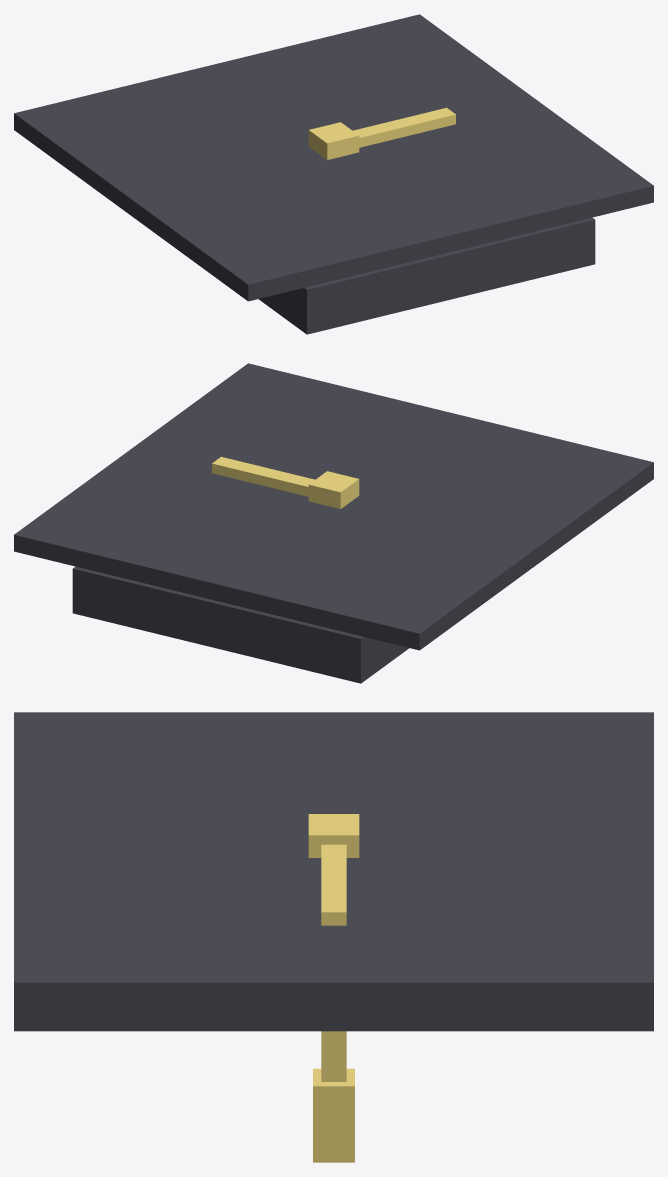
The model's file is capelo_formatura.glb.
3 views of the same model, one above another, from view 1: azimuth 30°, elevation 25°; view 2: azimuth 150°, elevation 25°; view 3: azimuth 270°, elevation 25° (orthographic). The views are drawn at different scales.
Parts seen in each view (by area): view 1: capelo_formatura; view 2: capelo_formatura; view 3: capelo_formatura.
Boxes of the visible parts, x1,y1,x2,y2 form: capelo_formatura: (14,14,653,334); capelo_formatura: (14,363,653,683); capelo_formatura: (14,712,653,1162).
Bounding box in the file's own units: 0.76 × 0.315 × 0.76.
